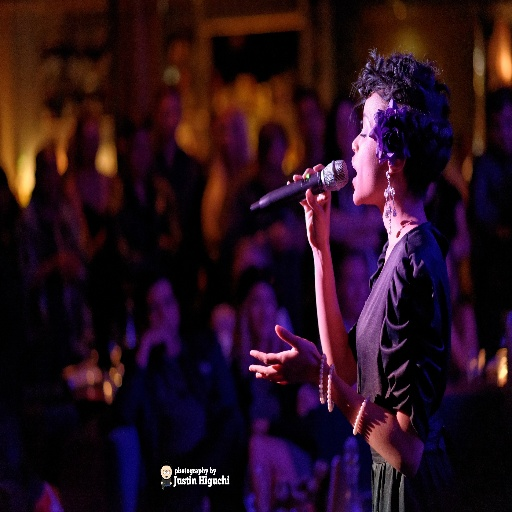hand: (251, 329, 338, 398), (285, 160, 332, 250), (145, 322, 180, 355)
